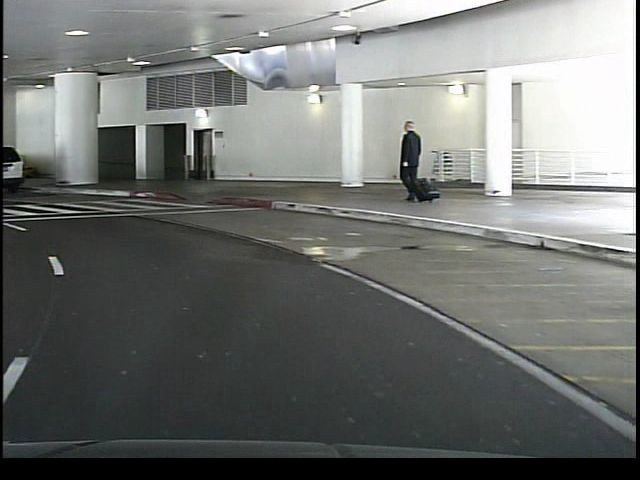person: (390, 120, 429, 203)
